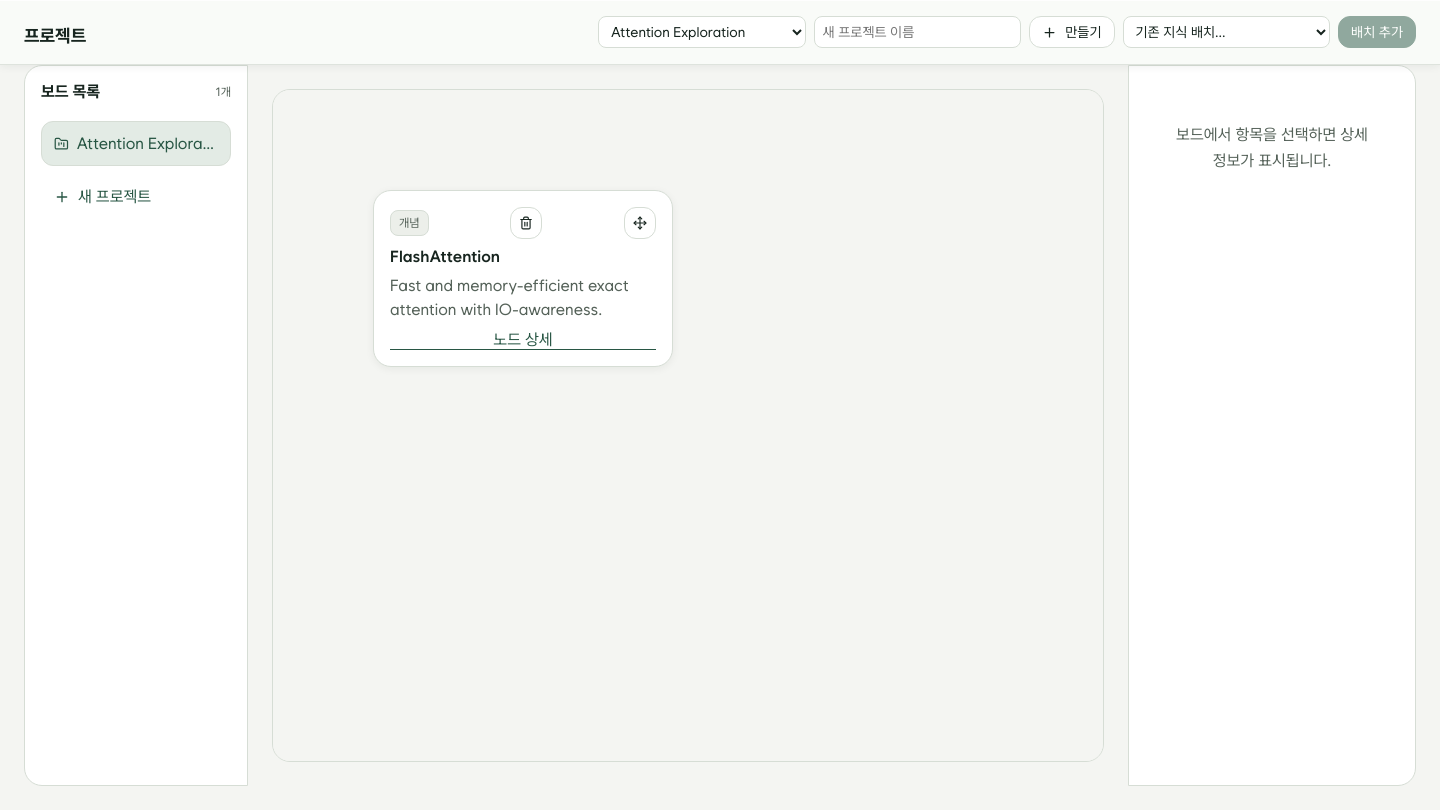
Test: Knowledge UI Views › clears the old placement detail when creating a board
Click the button "FlashAttention": (445, 256) [390,247,656,266]
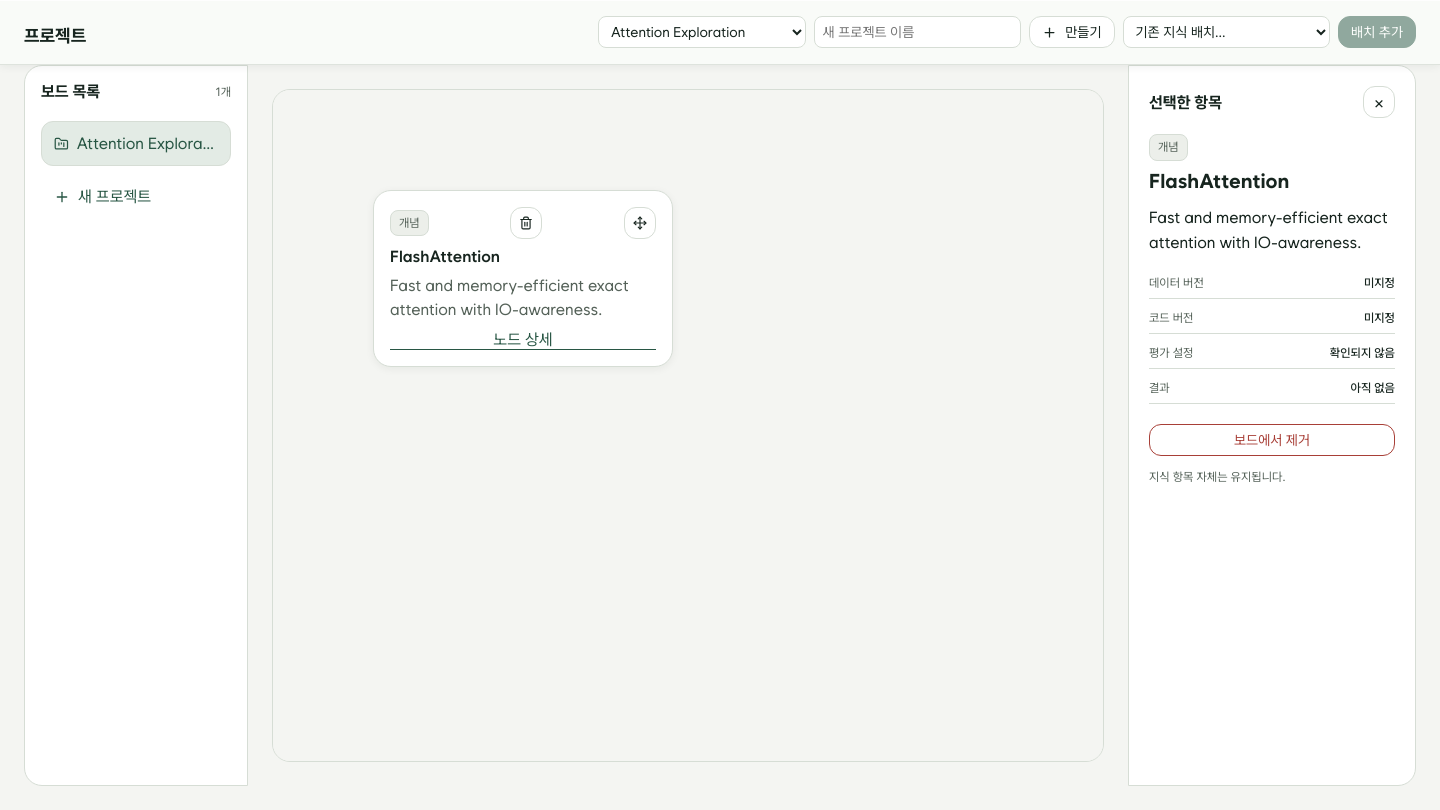
Now the button "보드에서 제거" is shown, box [1149,424,1395,456]
In the field labelled "새 프로젝트 이름": (917, 32) [814,16,1021,48], type "New board"
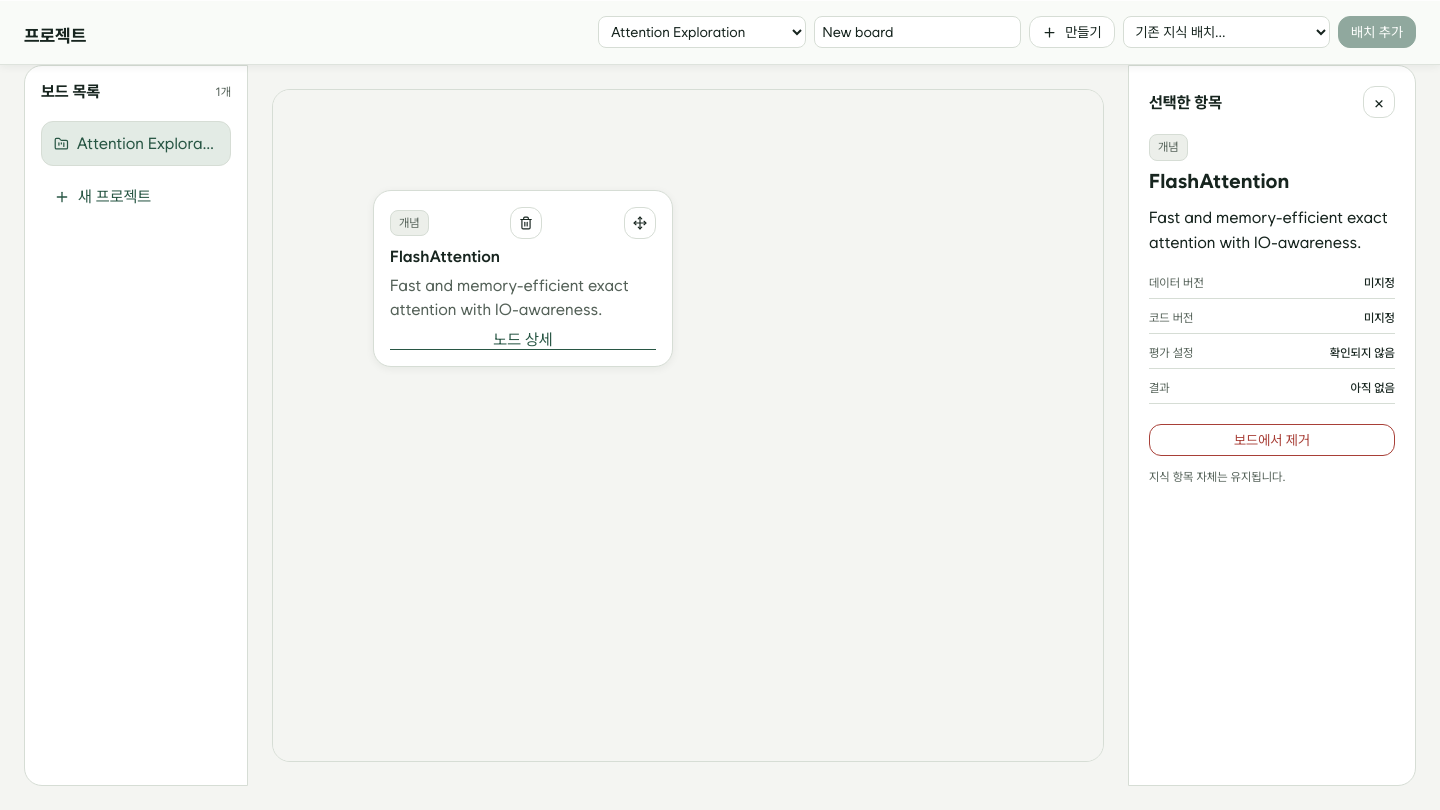
Click the button "만들기": (1072, 32) [1029,16,1114,48]
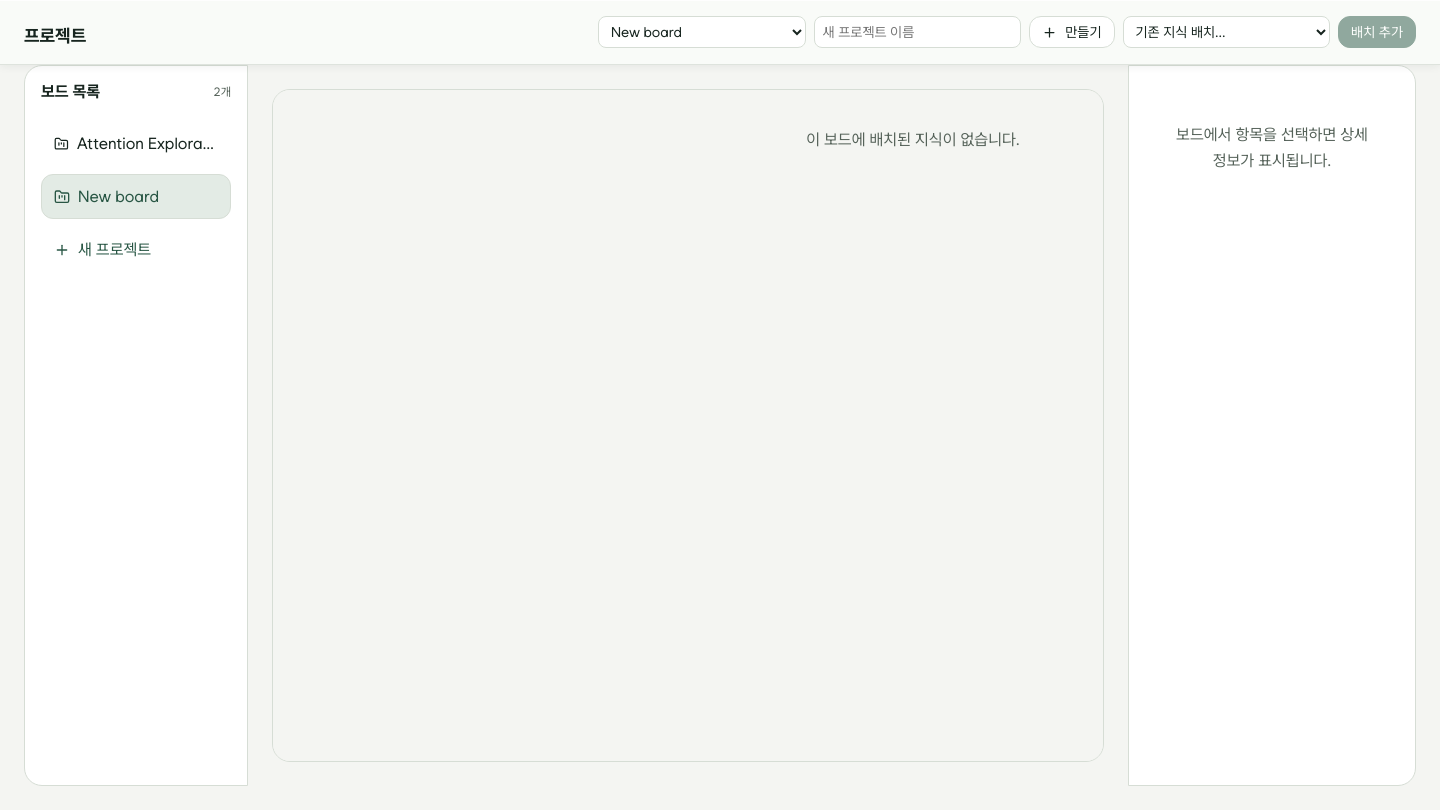
Now the button "보드에서 제거" is gone
